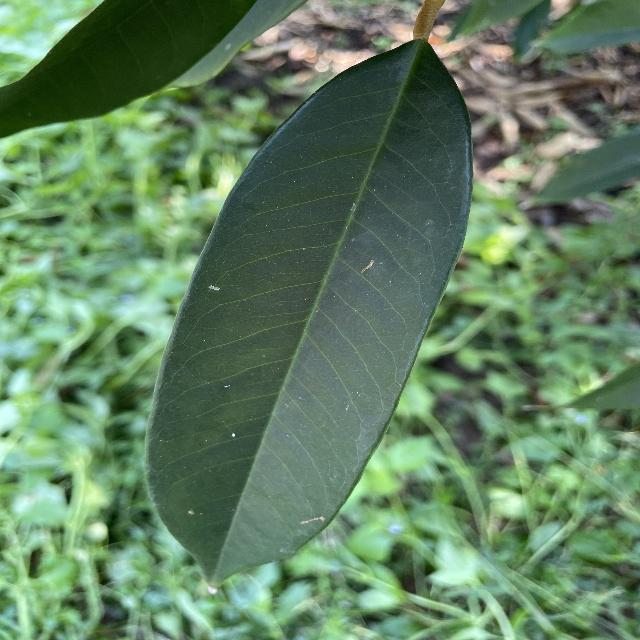No Disease: (135, 31, 483, 595)
